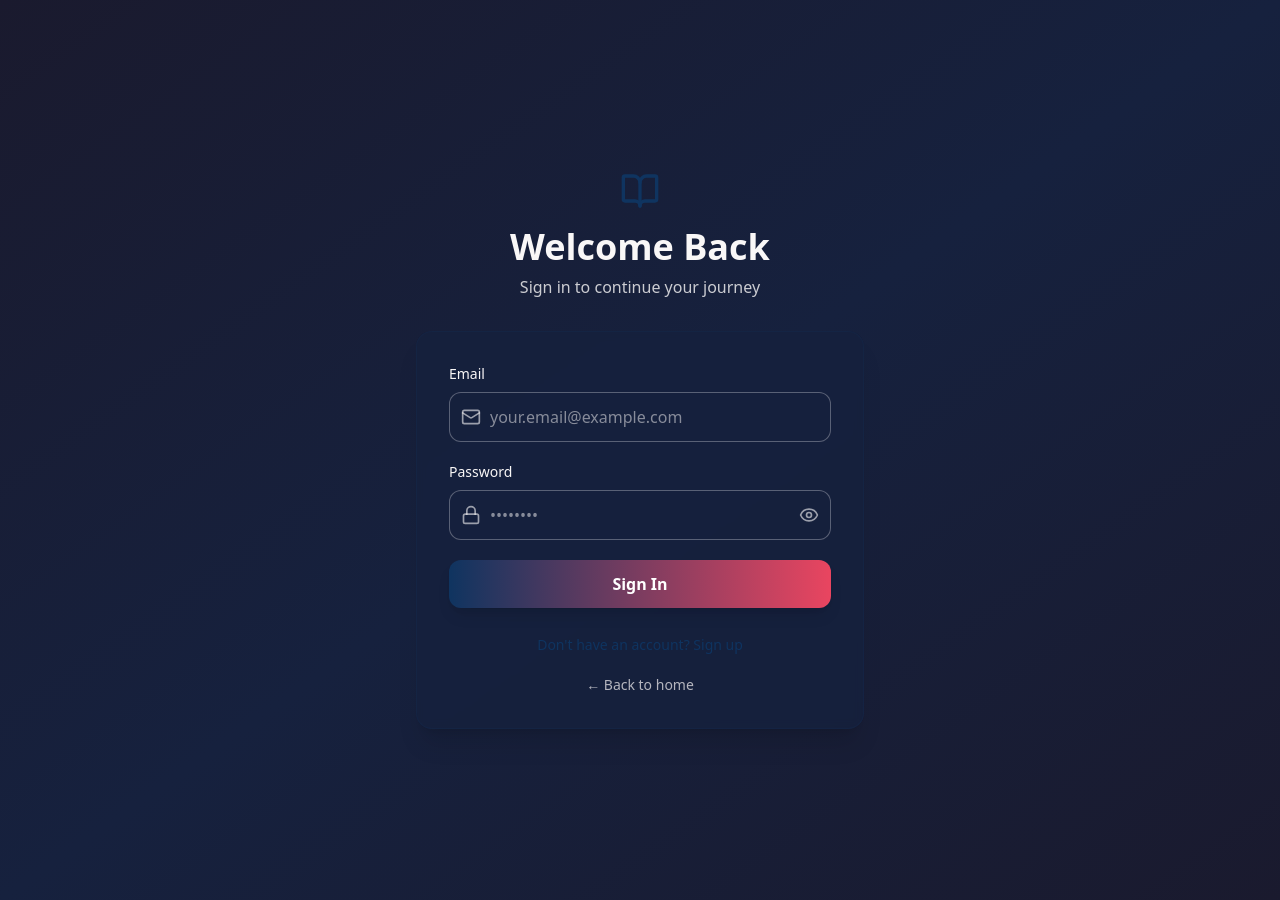
Test: Auth Page Extended Tests › should show error when registering without user type
// Switch to register mode
Click the button "Don't have an account? Sign up" at [640, 645], box x1=537 y1=635 x2=743 y2=655
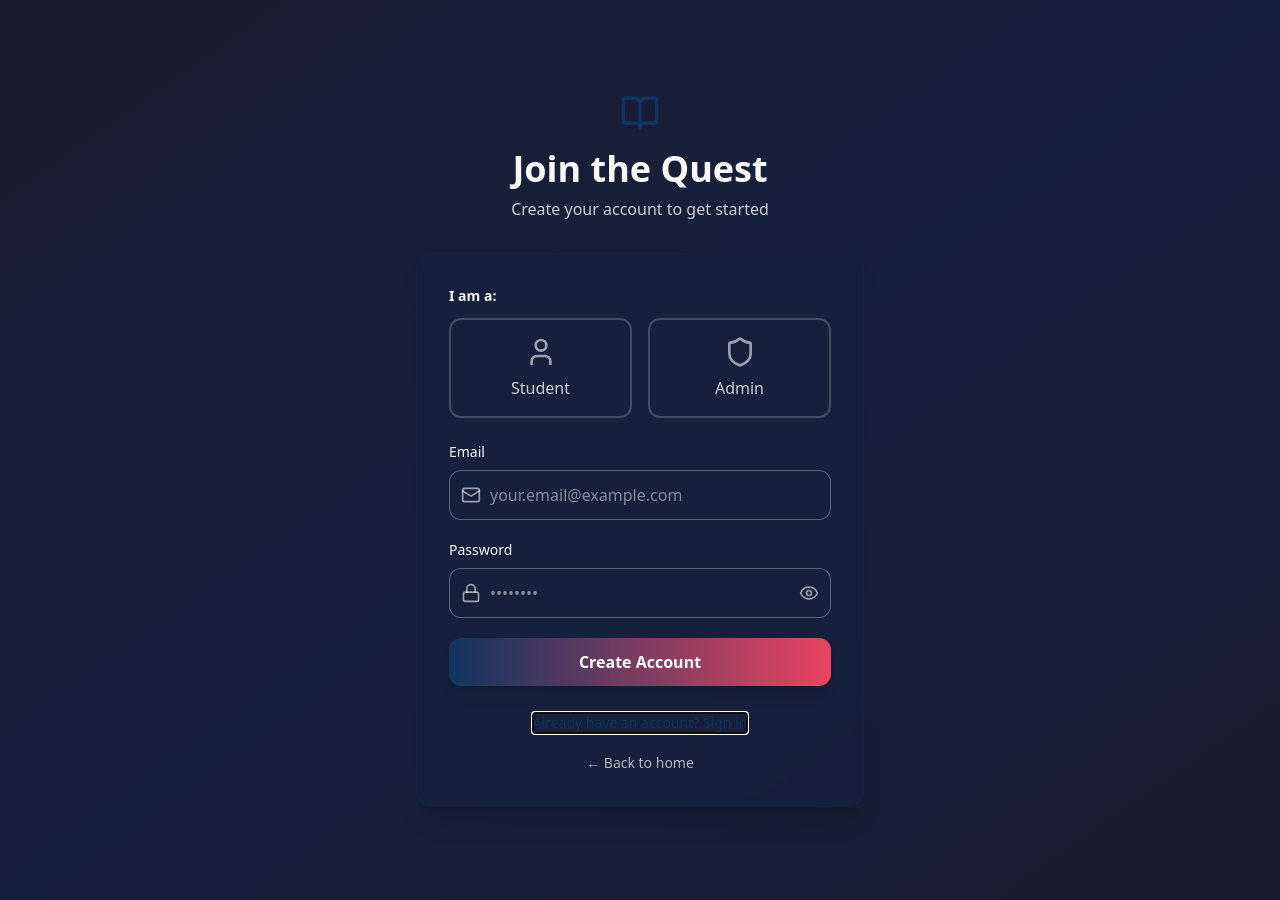
// Fill form without selecting user type
Type "test@example.com" into the field labelled "Email" at [640, 495], box x1=449 y1=470 x2=831 y2=520
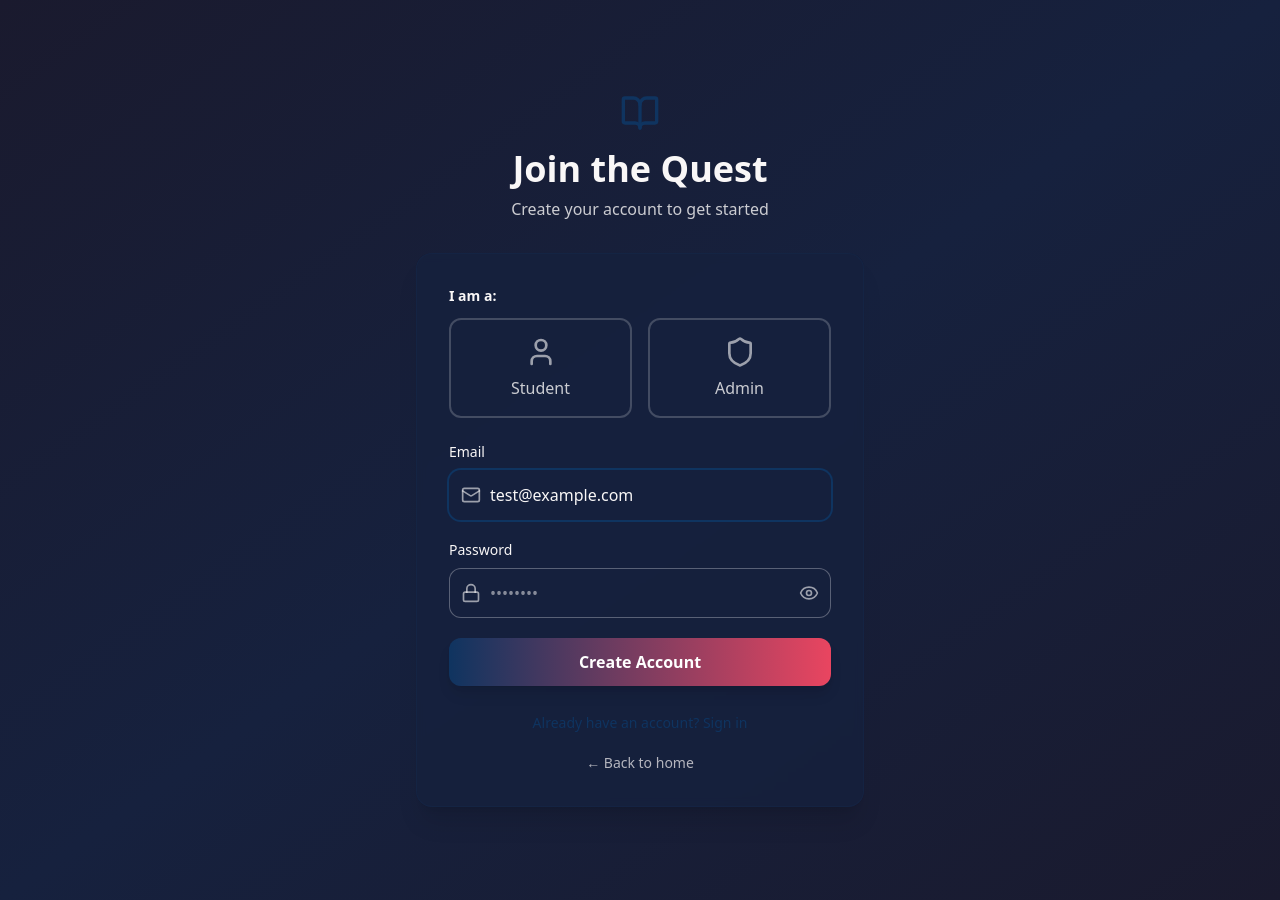
Type "password123" into the password field labelled "Password" at [640, 593], box x1=449 y1=568 x2=831 y2=618
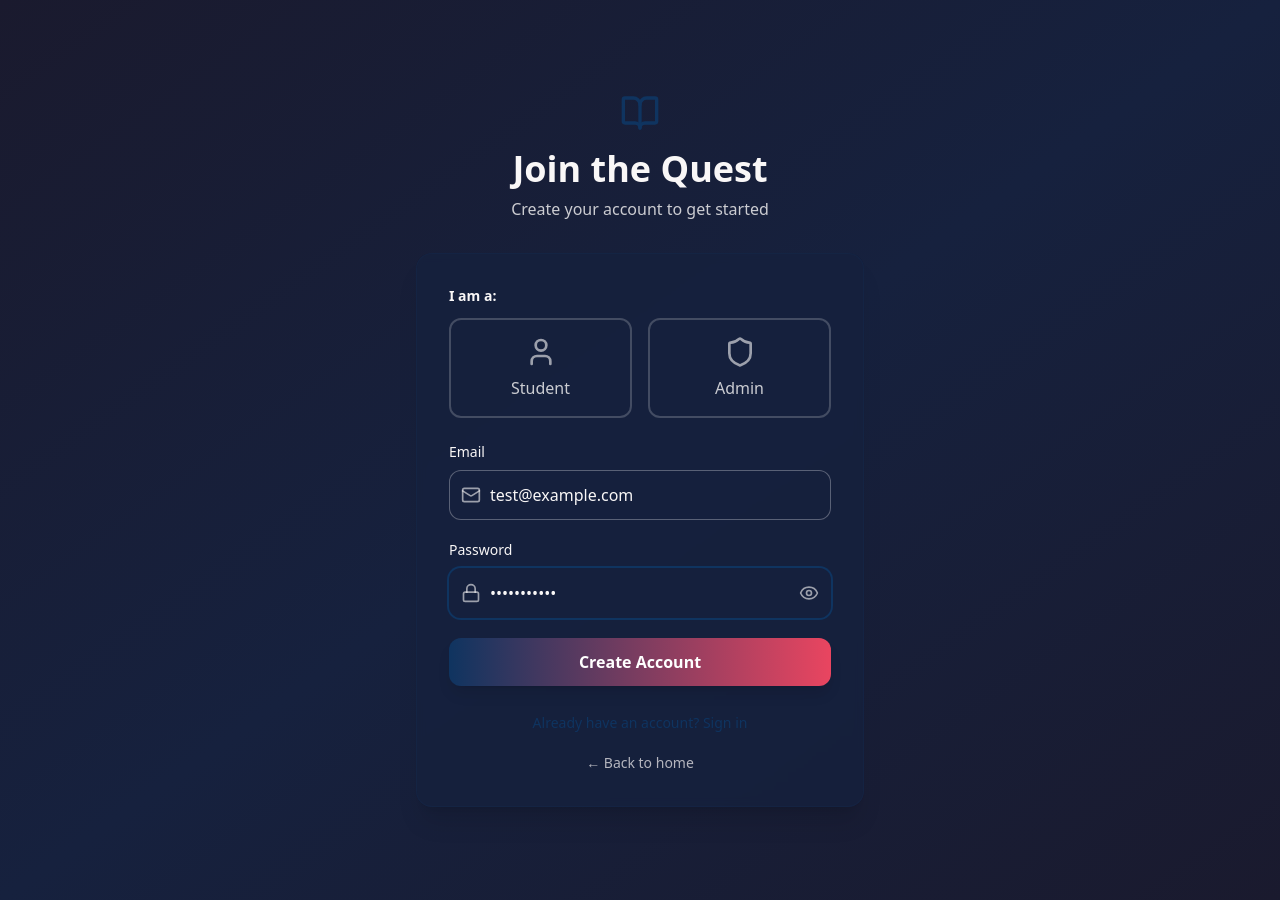
Click the button "Create Account" at [640, 662], box x1=449 y1=638 x2=831 y2=686
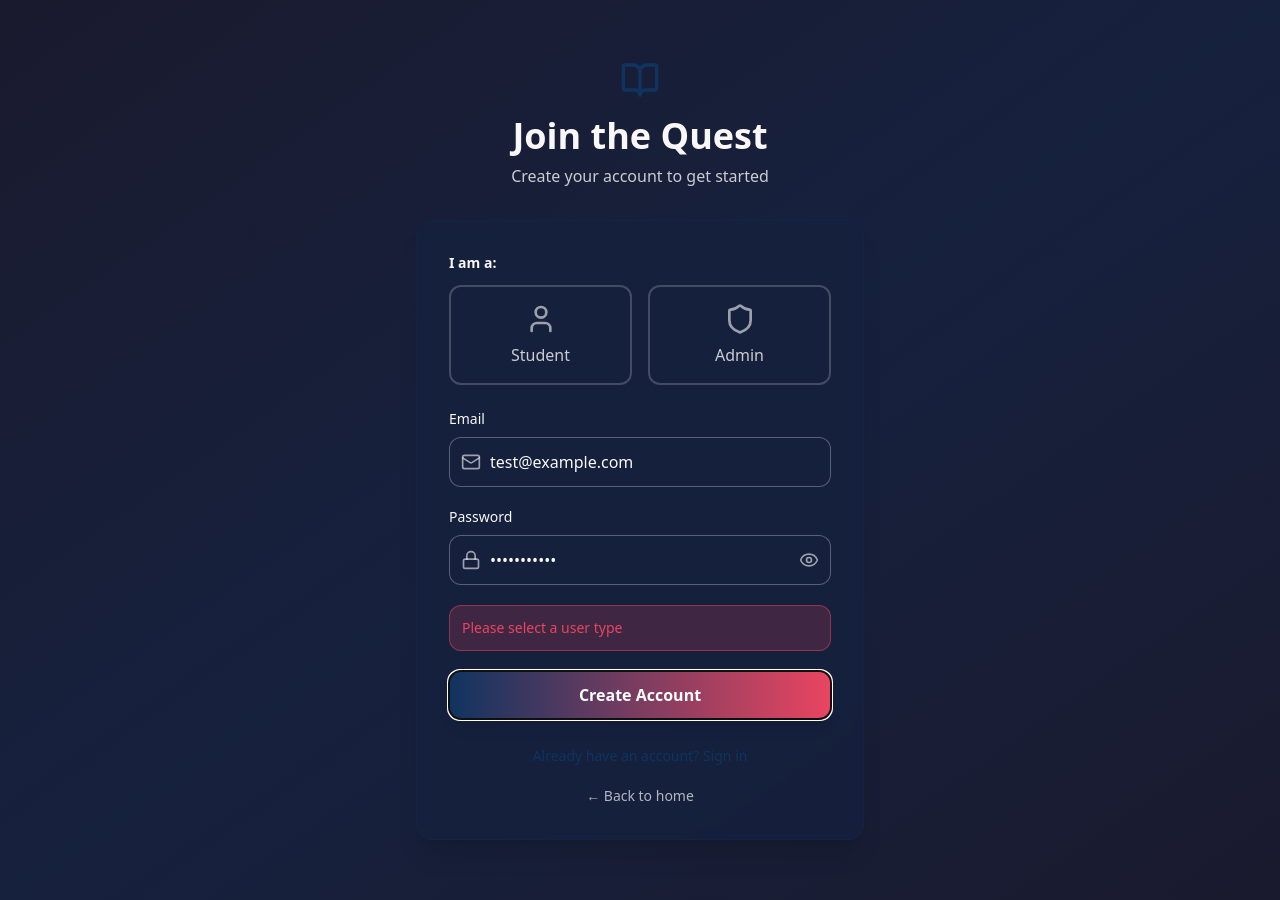
Now the text "Please select a user type" is shown, box x1=449 y1=605 x2=831 y2=651
